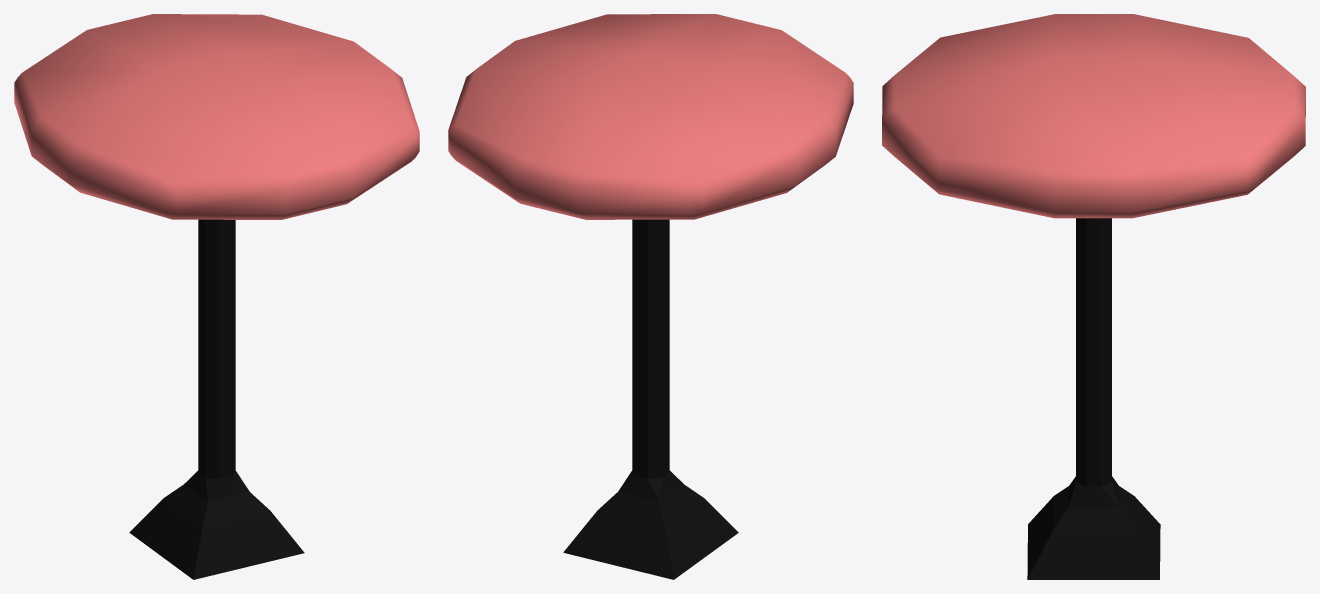
Rendered from Chair_Science_Class.fbx.
3 views of the same model, side by side, from view 1: azimuth 30°, elevation 25°; view 2: azimuth 150°, elevation 25°; view 3: azimuth 270°, elevation 25° (orthographic). The views are drawn at different scales.
Visible parts, largest first — view 1: CHAİR2.004; view 2: CHAİR2.004; view 3: CHAİR2.004.
Part boxes in pixels (x1,y1,x2,y2): CHAİR2.004: (14,14,419,579); CHAİR2.004: (448,14,853,579); CHAİR2.004: (882,14,1305,579).
Size of the model in its own units: 2.1 by 2.82 by 2.27.
